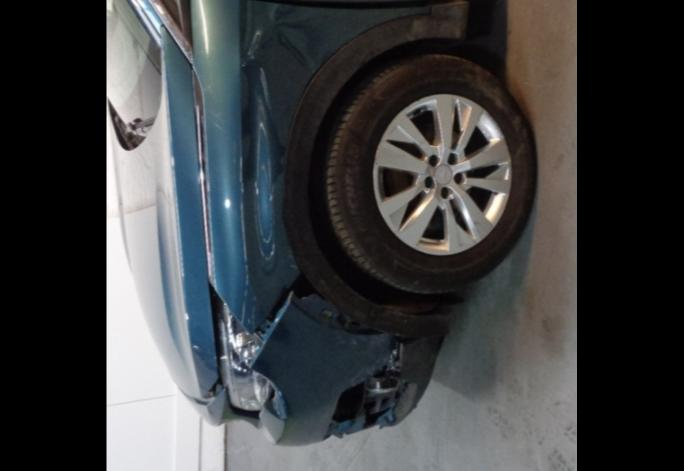Broken part: (180, 266, 448, 450), (248, 0, 458, 10)
Dent: (274, 22, 318, 74), (270, 4, 322, 22)
Missing part: (336, 382, 376, 424)
Scratch: (234, 148, 252, 328)
